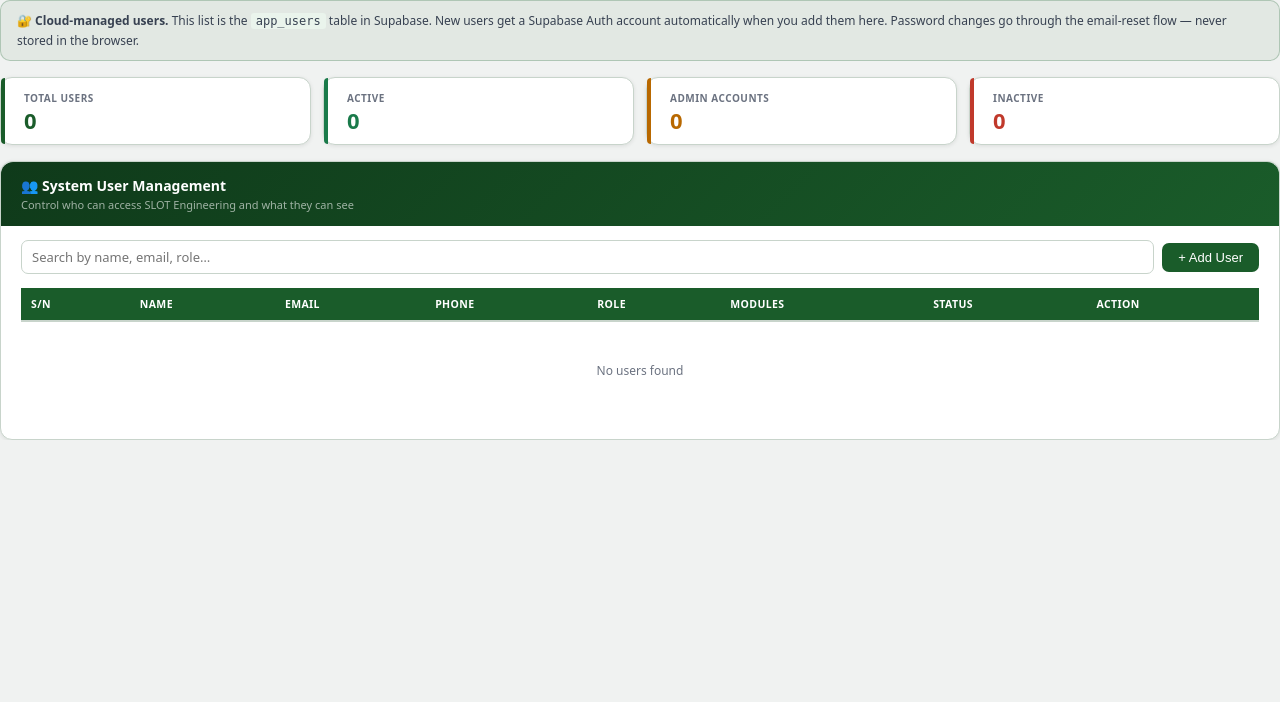
Test: Users — Add User with cloud login (Supabase configured) › on success: creates the user via createSupabaseUser and the new row appears in the list
Check: the text "No users found" is shown, box top-left (21, 321), bottom-right (1259, 419)
Step 1. Click the button "+ Add User" → x=1211, y=257, box top-left (1162, 243), bottom-right (1259, 272)
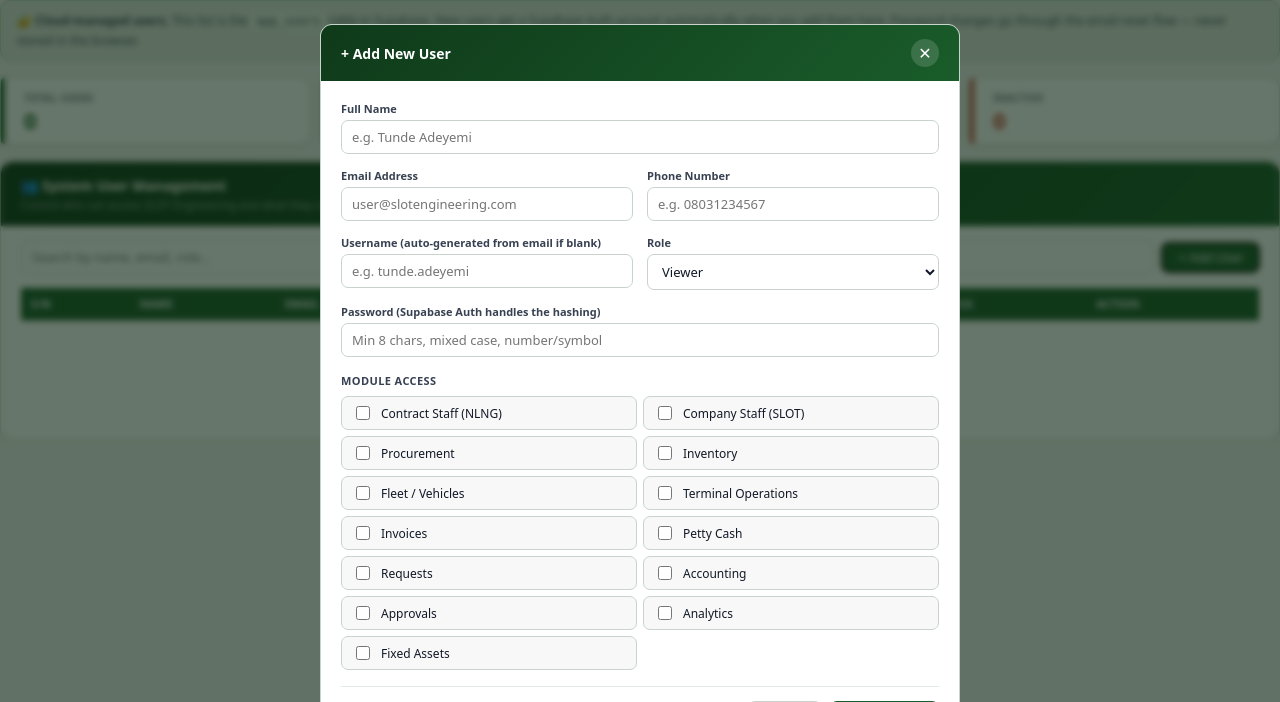
Check: the text "+ Add New User" is shown, box top-left (341, 44), bottom-right (451, 62)
Step 2. Type "Amaka Nwosu" into the field with placeholder "e.g. Tunde Adeyemi" → x=640, y=137, box top-left (341, 120), bottom-right (939, 154)
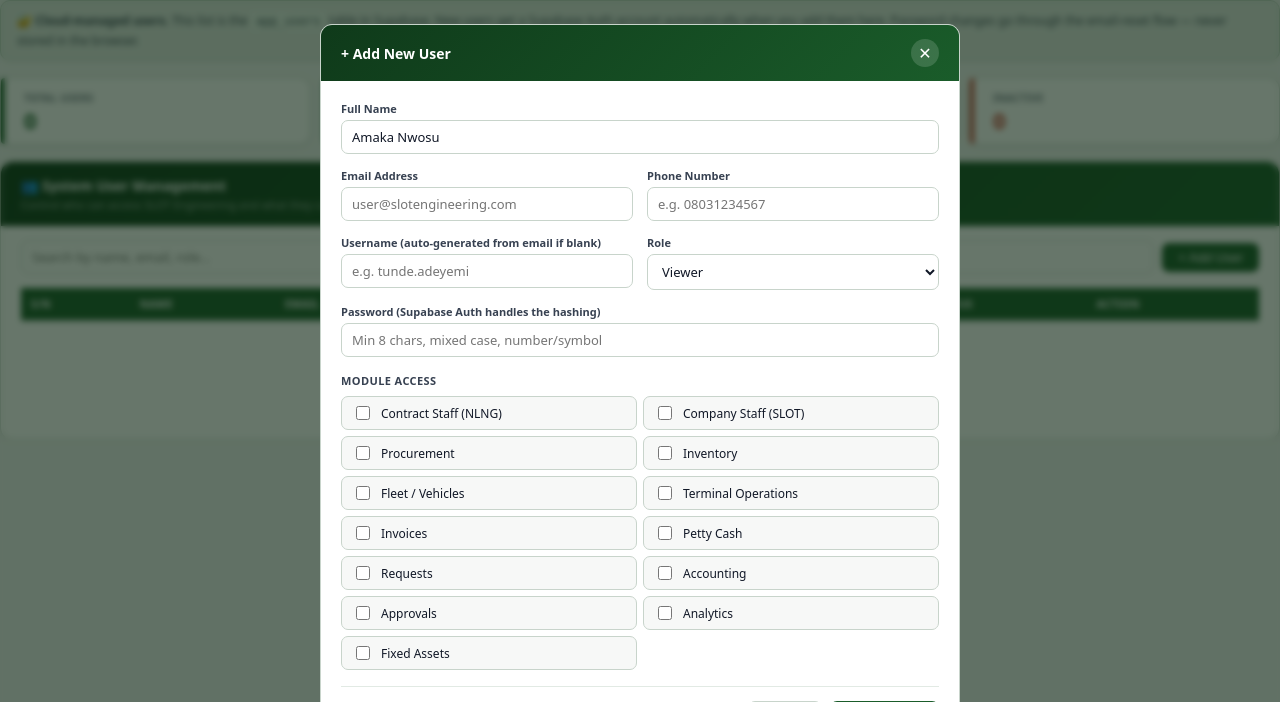
Step 3. Type "anwosu@slotengineering.com" into the field with placeholder "user@slotengineering.com" → x=487, y=204, box top-left (341, 187), bottom-right (633, 221)
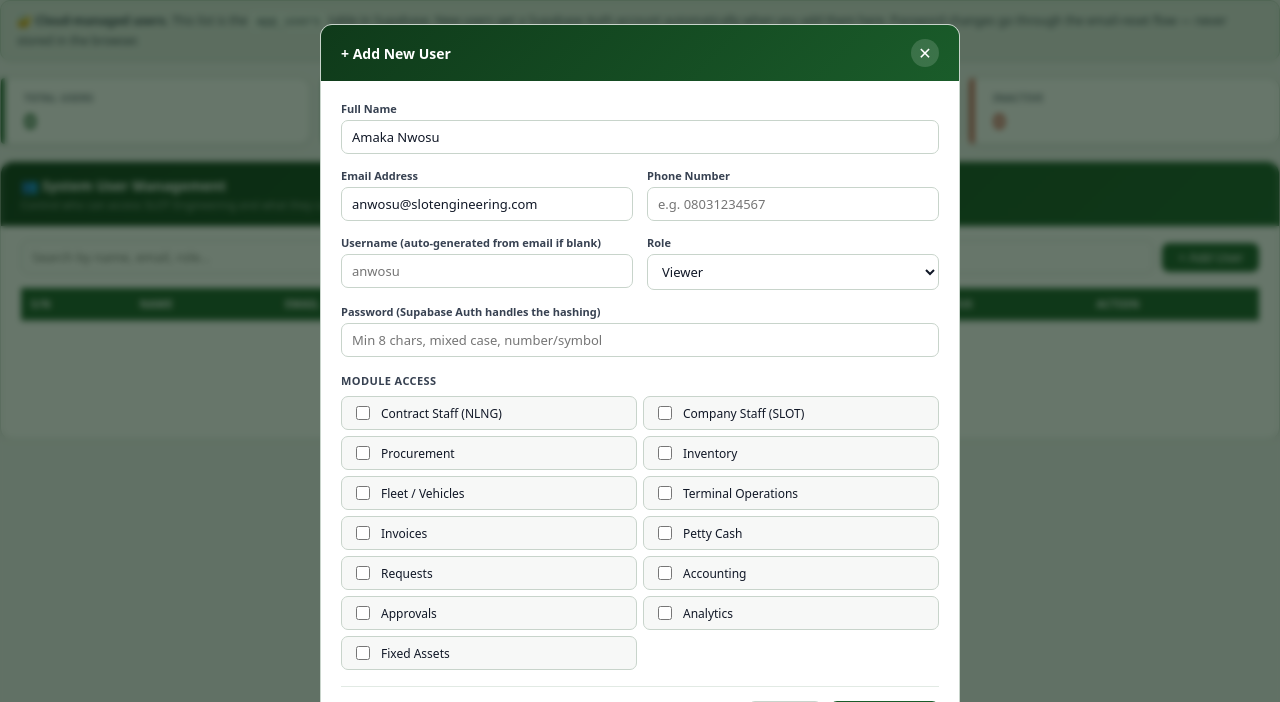
Step 4. Type "TestPass123!" into the password field with placeholder "Min 8 chars, mixed case, number/symbol" → x=640, y=340, box top-left (341, 323), bottom-right (939, 357)
(page scrolled)
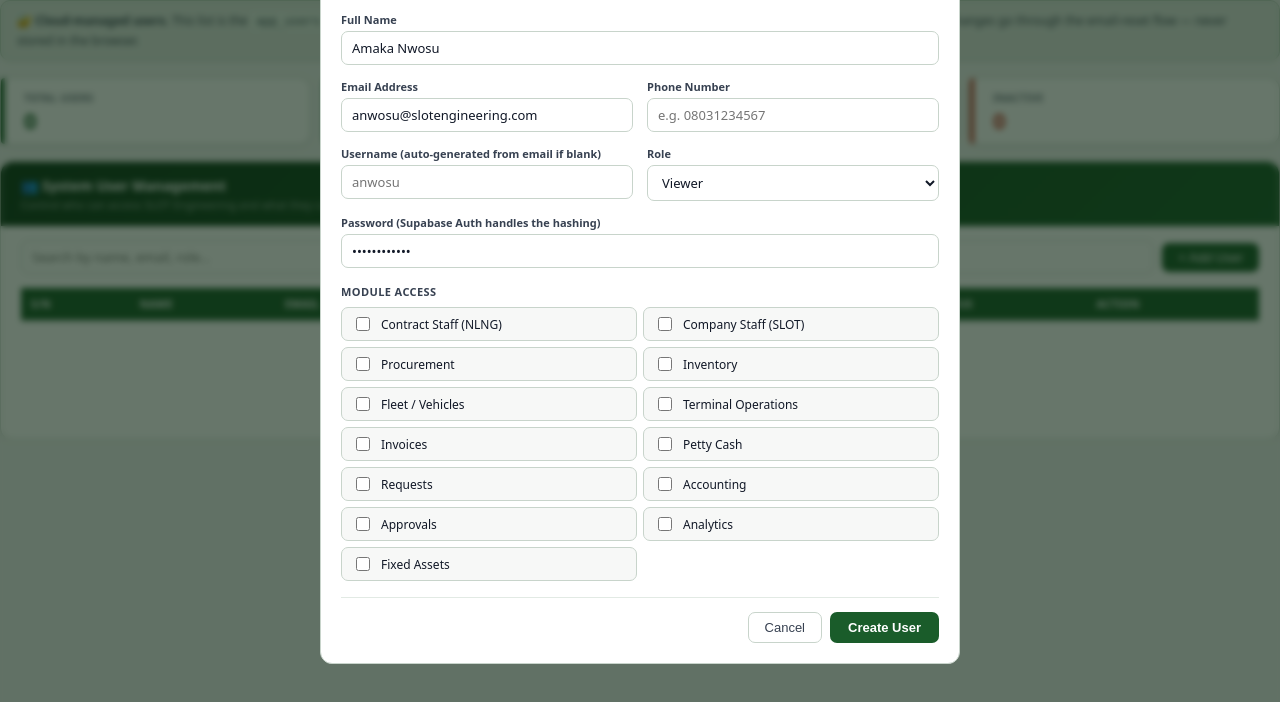
Step 5. Click the button "Create User" → x=884, y=628, box top-left (830, 612), bottom-right (939, 643)
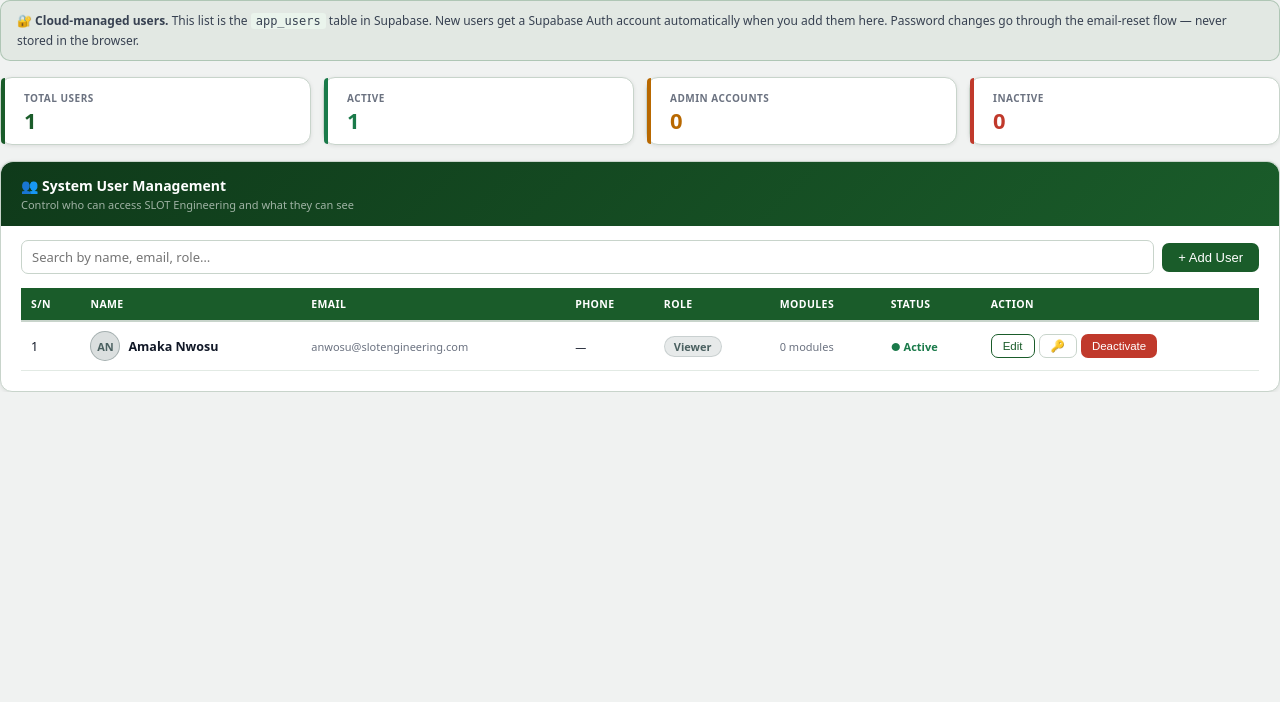
Check: the text "Amaka Nwosu" is shown, box top-left (128, 338), bottom-right (218, 355)
